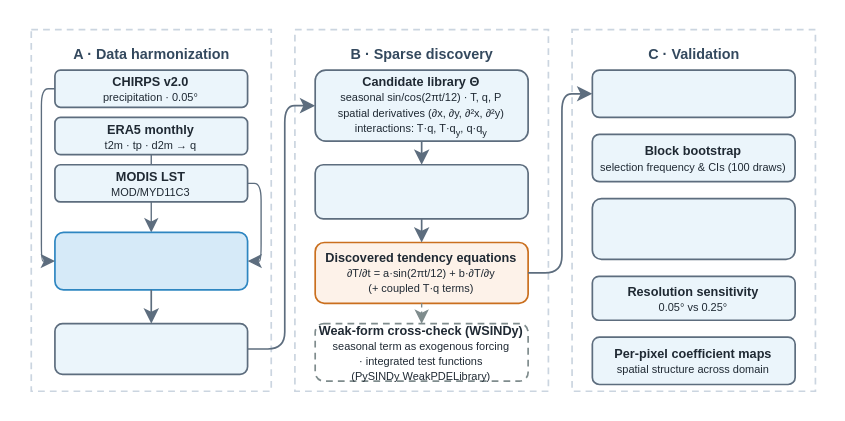
Some shapes in this 845 by 421 pixel diagram are drawn without their labels. Here are the shapes that lost their labels. From the top down, the centre of each, then its label:
At [693,92]: "Spatial cross-validation hold-out training on each subregion".
At [420,191]: "STLSQ sparse regression OLS + sequential thresholding refit on support".
At [693,228]: "Forward-integration skill vs. persistence · climatology · fit-once ARIMA".
At [150,260]: "Harmonized grid 0.05° · monthly · 2000–2023 200 × 600 × 288 · 8 variables".
At [150,348]: "Study region & patches SE USA · 3 subregions, 32 × 32 px".
